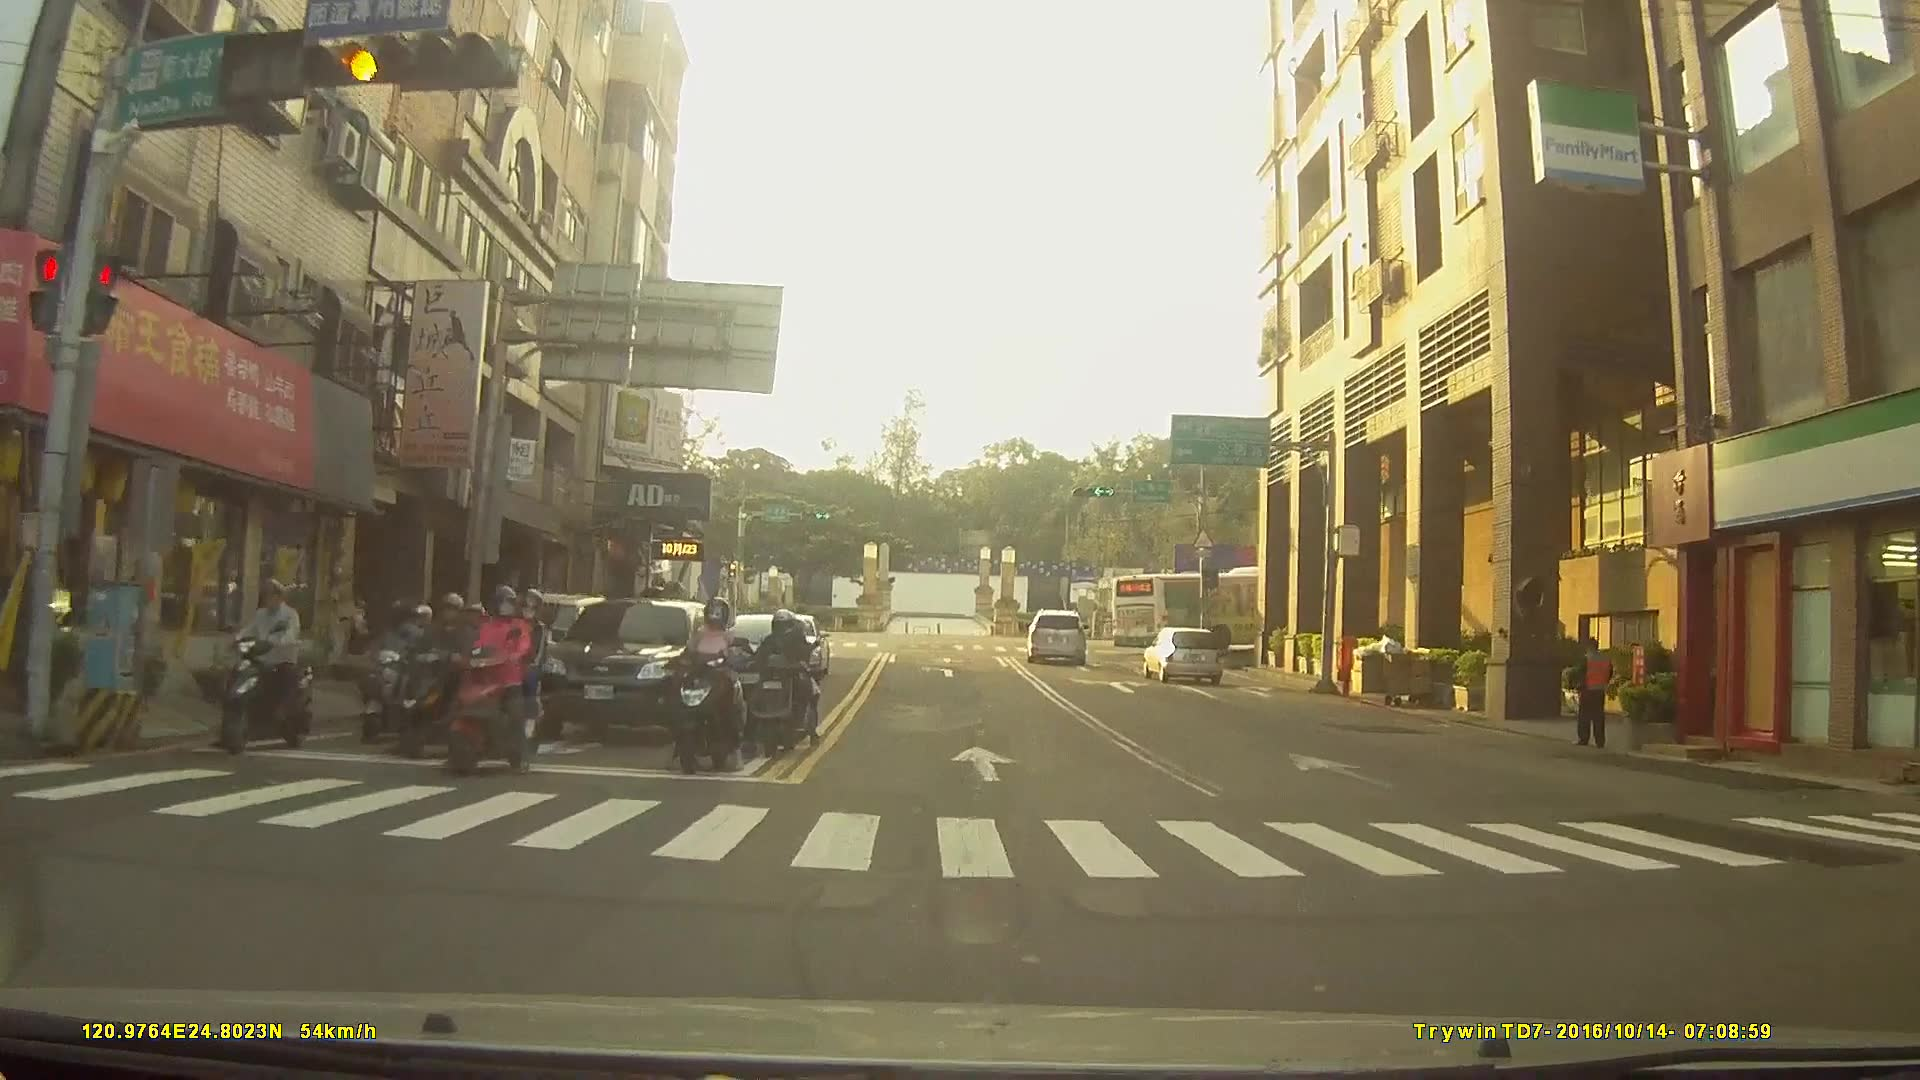pedestrian: (1567, 634, 1625, 753)
rider: (445, 583, 550, 776), (388, 587, 485, 762), (219, 580, 316, 754), (671, 599, 760, 774), (741, 610, 818, 758)
vehicle: (530, 594, 728, 741), (1109, 560, 1317, 656), (1141, 624, 1224, 682), (1024, 604, 1084, 660)
